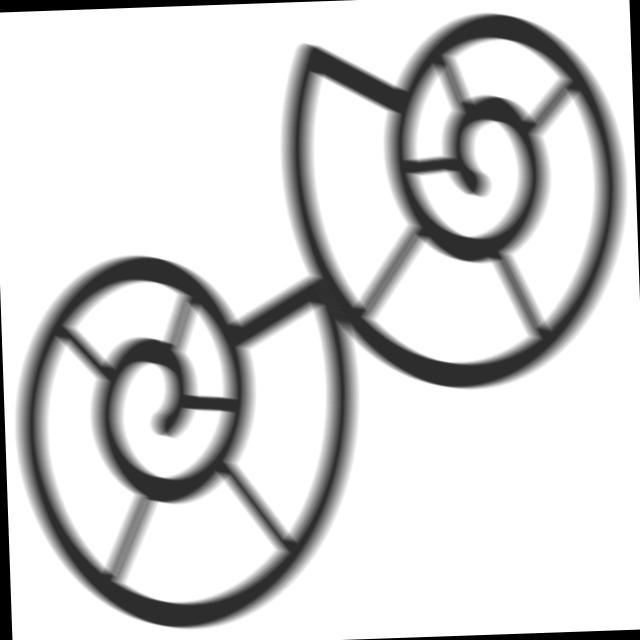fossil: (265, 1, 640, 406), (4, 233, 370, 640)
